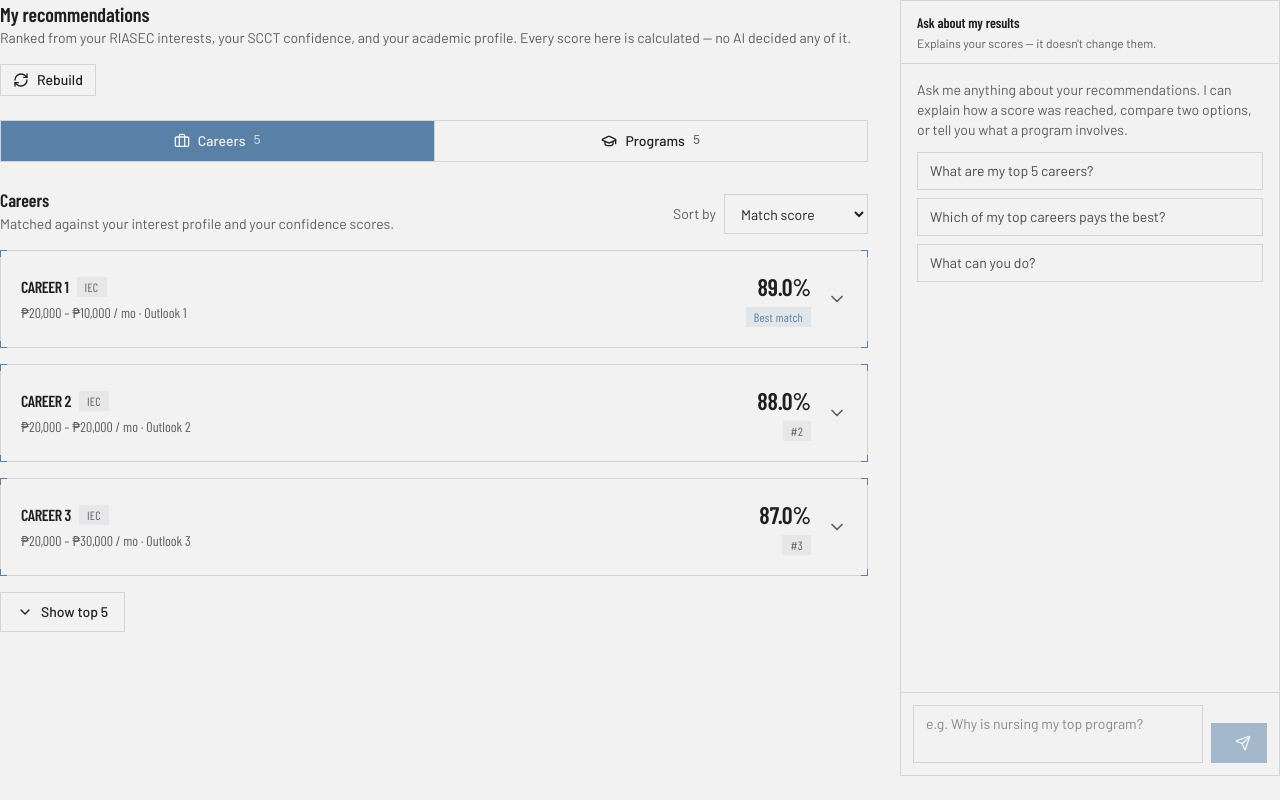
RecommendationPage › collapses back to three
This screenshot has width=1280, height=800.
Expected: the text "Career 1" is shown, [21,277,68,296]
Click the button "Show top 5": (63, 612) [0,592,125,632]
(page scrolled)
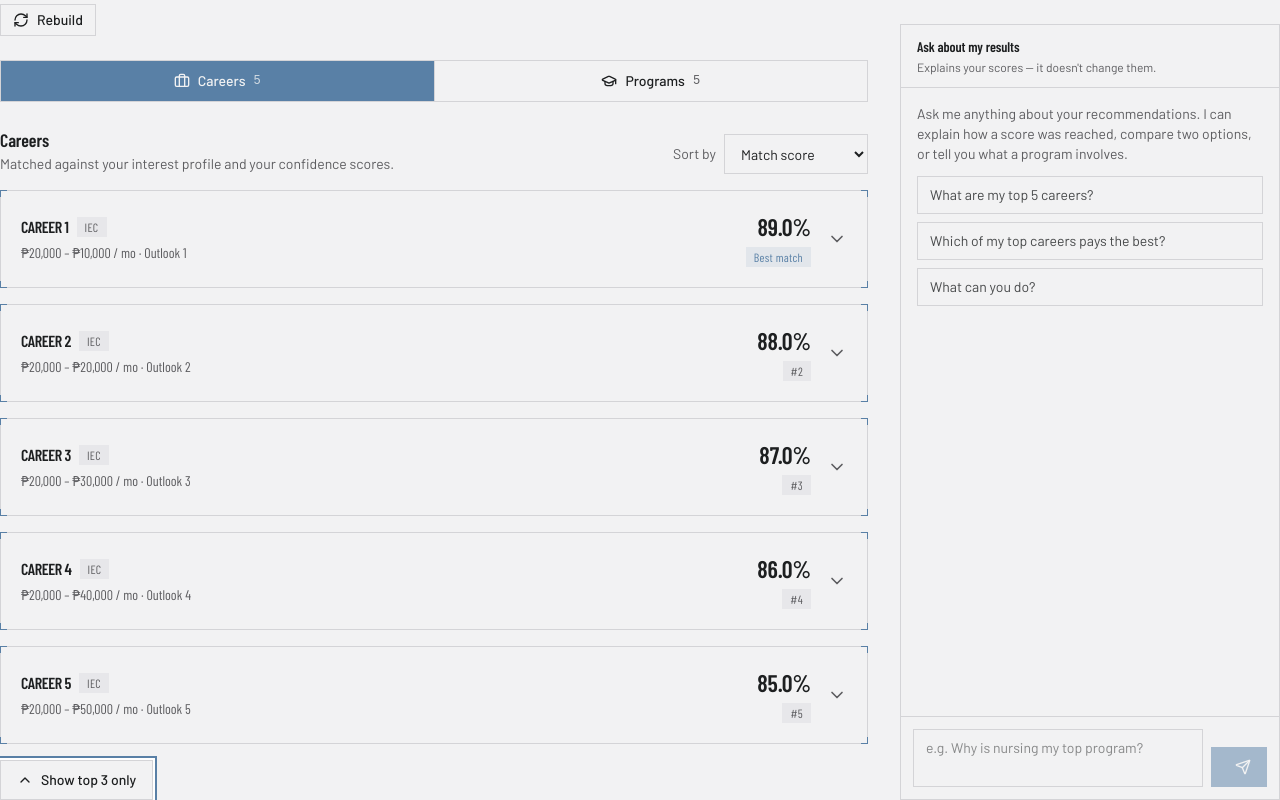
Expected: the text "Career 5" is shown, [21,673,71,692]
Click the button "Show top 3 only": (77, 780) [0,760,153,799]
(page scrolled)
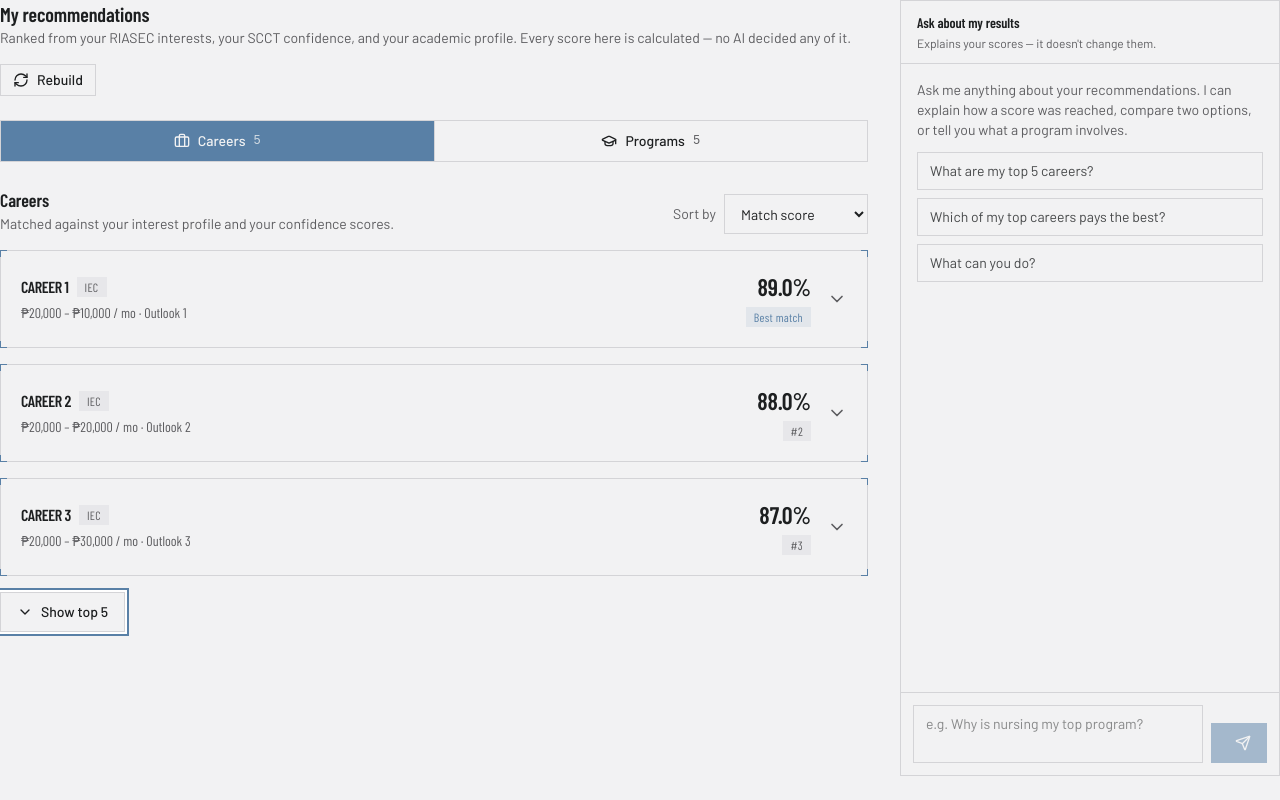
Expected: the button "Career 4" is gone
